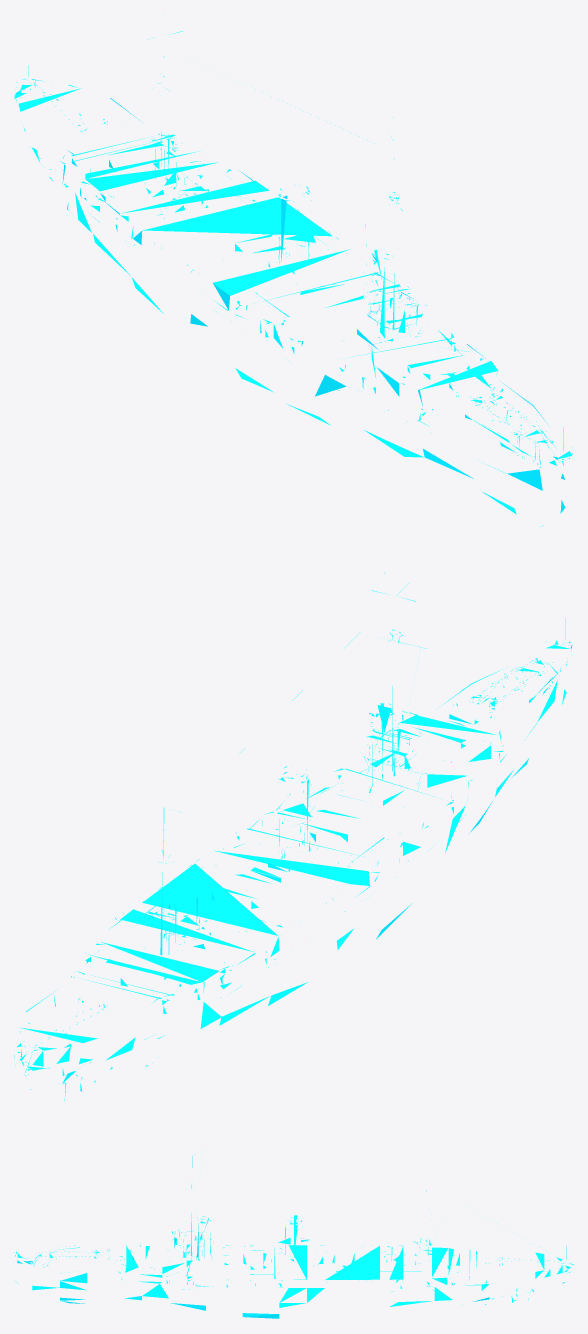
File: Nikolay_I.glb
3 views of the same model, one above another, from view 1: azimuth 30°, elevation 25°; view 2: azimuth 150°, elevation 25°; view 3: azimuth 270°, elevation 25° (orthographic). The views are drawn at different scales.
Bounding box in the file's own units: 1.95 × 3.87 × 12.25.
